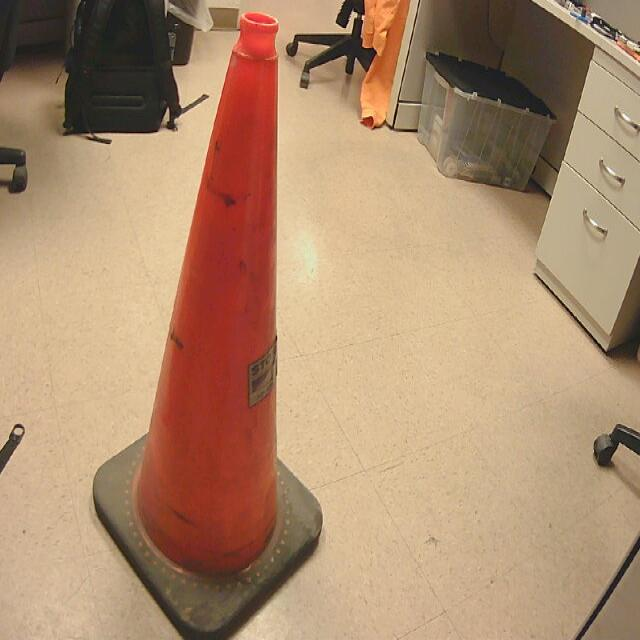traffic cone: (92, 13, 324, 640)
